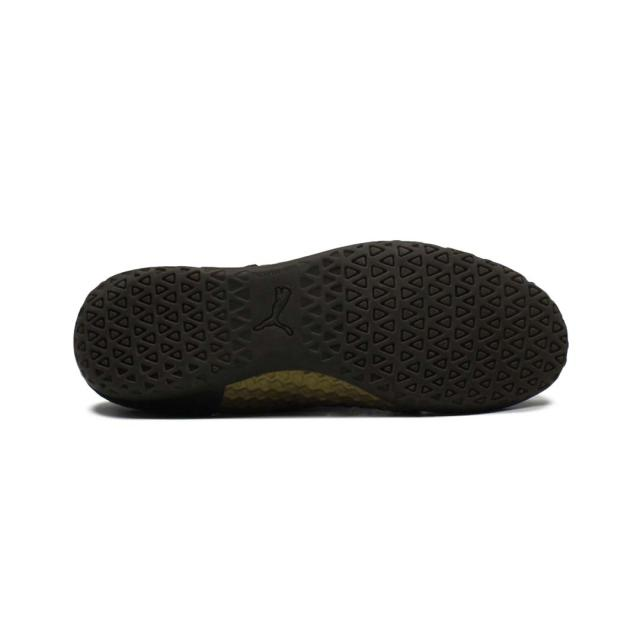outersole: (76, 236, 568, 414)
